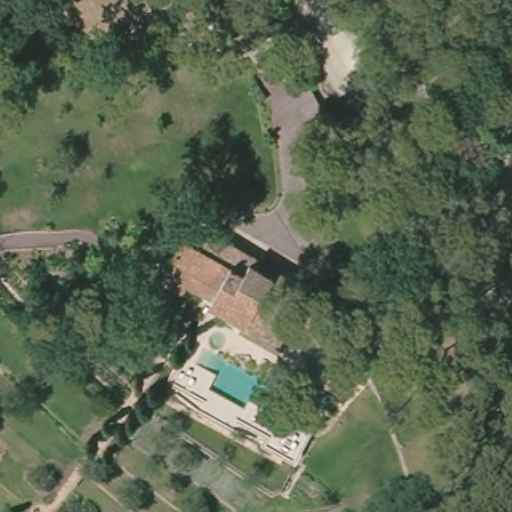pool: (197, 347, 275, 413), (204, 326, 229, 353)
